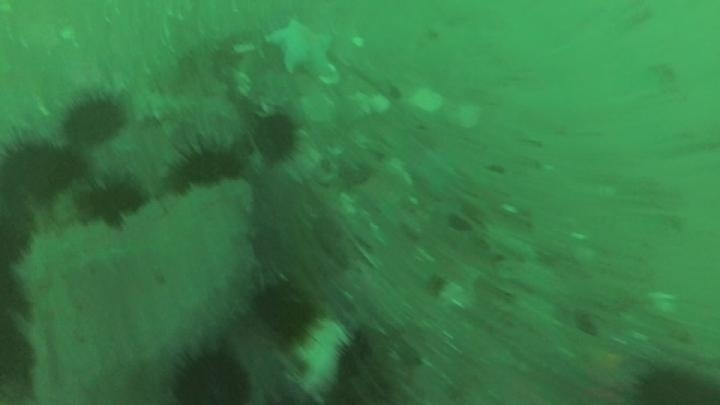echinus: (327, 328, 405, 405), (3, 137, 85, 203), (168, 343, 253, 405), (164, 137, 246, 196), (249, 278, 320, 346), (77, 173, 148, 228), (629, 361, 715, 404), (61, 92, 127, 148), (250, 111, 301, 164), (1, 206, 37, 270)
holothurian: (130, 85, 242, 130)
scallop: (293, 315, 354, 400), (407, 84, 445, 116)
starfish: (264, 16, 339, 81)
